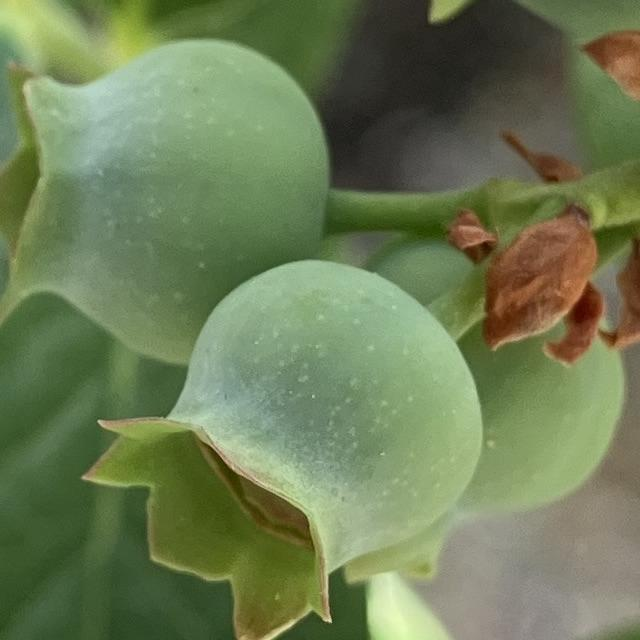Blueberries: (64, 238, 495, 640), (0, 24, 338, 365)
